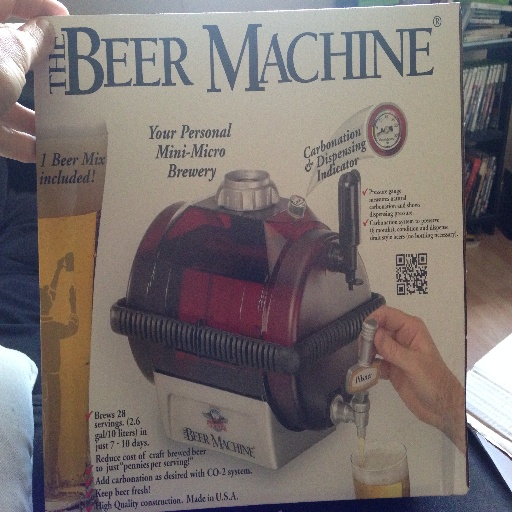hand: (357, 304, 454, 427), (0, 0, 70, 165)
